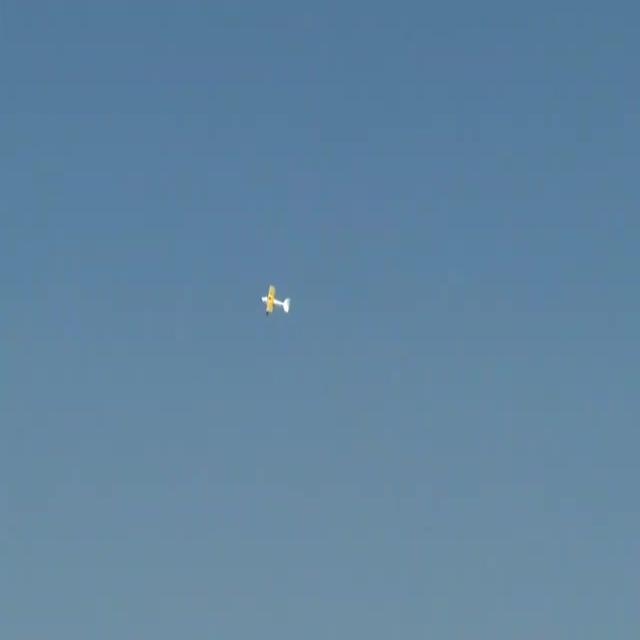iha: (260, 284, 290, 316)
